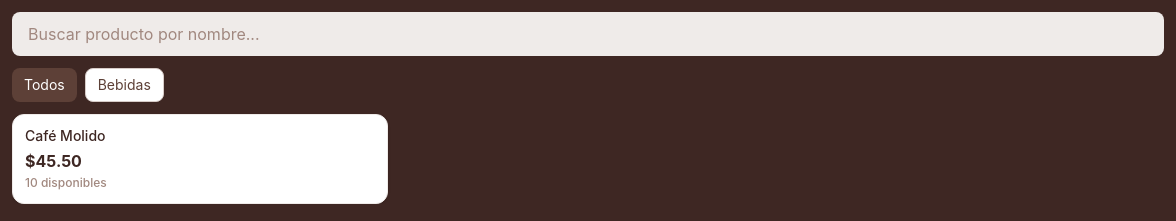
Test: ProductSearch › muestra mensaje de estado vacío cuando no hay resultados
Type "xyz no existe" into the field with placeholder "Buscar producto por nombre..." at coordinates (588, 34), box [12, 12, 1164, 56]
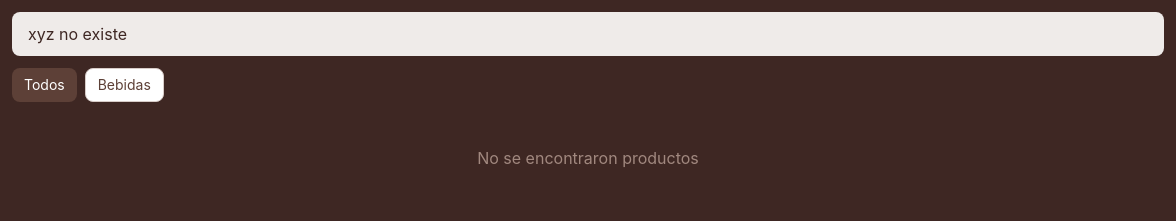
Result: the text "No se encontraron productos" is shown at [477, 148, 699, 168]
